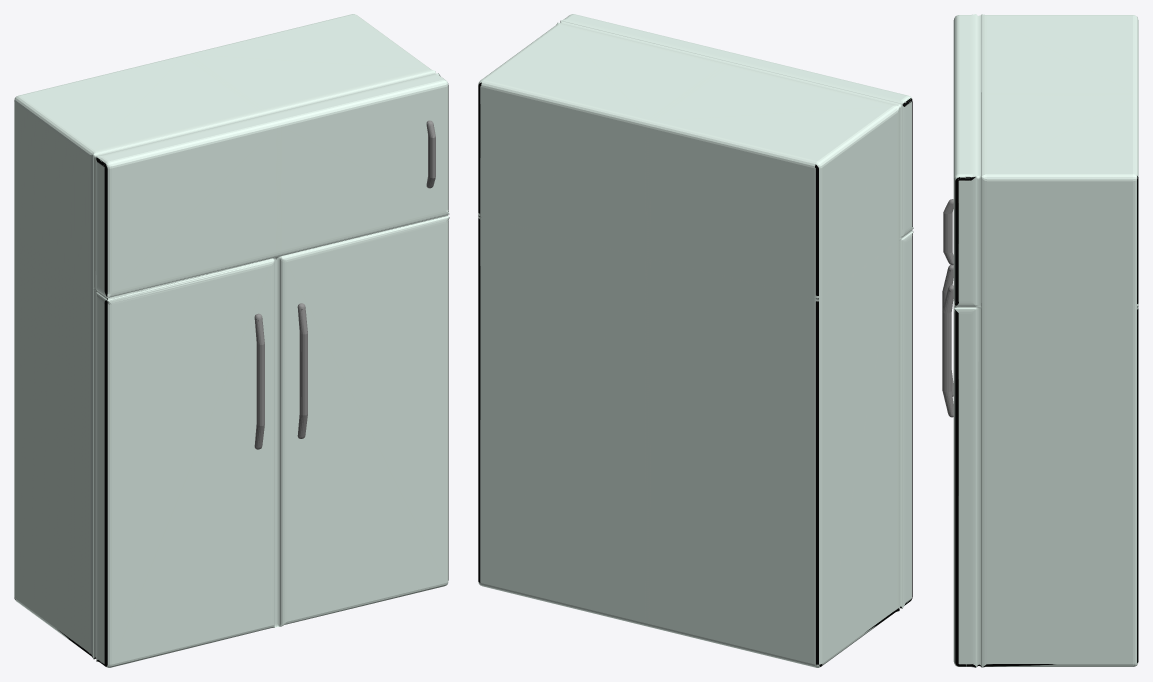
File: Fridge.fbx
3 views of the same model, side by side, from view 1: azimuth 30°, elevation 25°; view 2: azimuth 150°, elevation 25°; view 3: azimuth 270°, elevation 25° (orthographic). The views are drawn at different scales.
Visible parts, largest first — view 1: Body, Handles; view 2: Body; view 3: Body, Handles.
Part boxes in pixels (box(x1,y1,x2,y2)): Body: box(14, 14, 449, 667); Handles: box(254, 120, 435, 449); Body: box(478, 14, 913, 667); Body: box(953, 14, 1138, 667); Handles: box(942, 199, 953, 417).
Bounding box in the file's own units: 142 × 200 × 72.17.
Materials: 2 (2 with a texture image).
